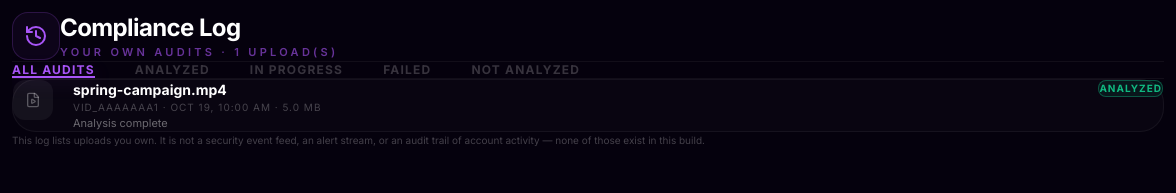
Test: real audit history › reports an empty filter result rather than showing nothing
The image size is (1176, 193).
Expected: the heading "spring-campaign.mp4" is shown, 73,80 -> 227,98
Click the button "Failed": (407, 70) 383,62 -> 431,78
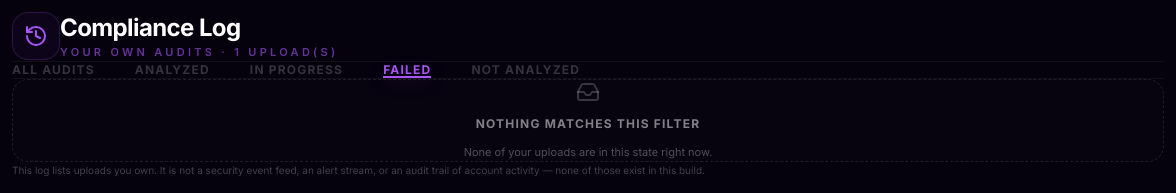
Now the text "Nothing matches this filter" is shown, box 476,116 -> 700,132
